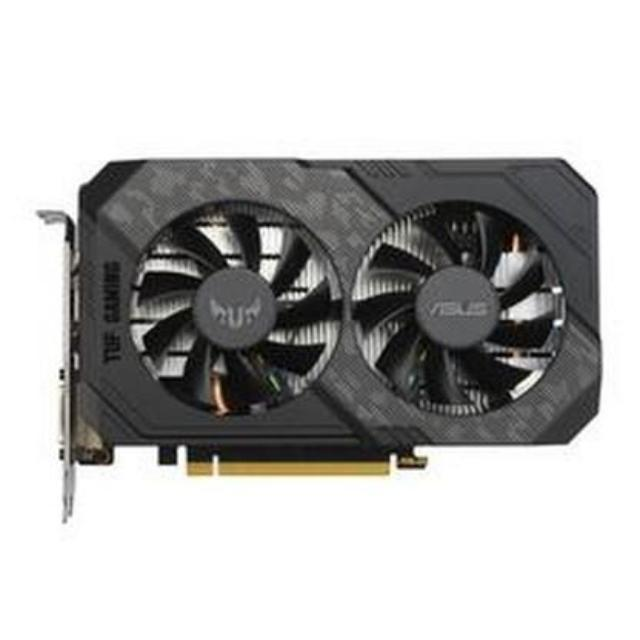GPU: (49, 158, 604, 480)
